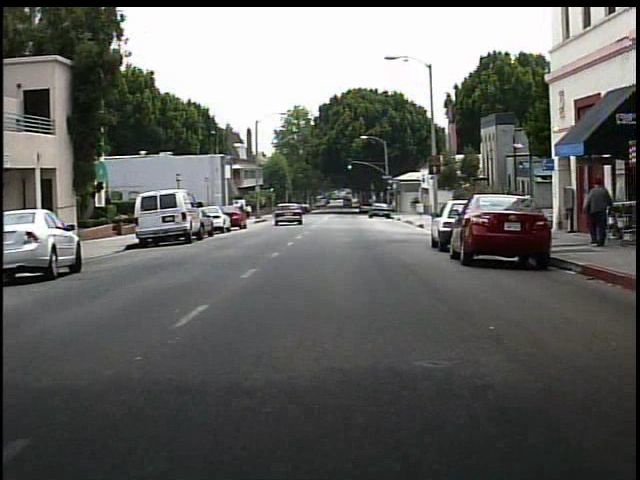person: (580, 178, 615, 248)
